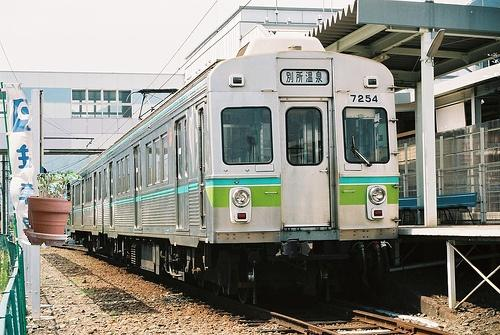tampered: (24, 173, 82, 246)
